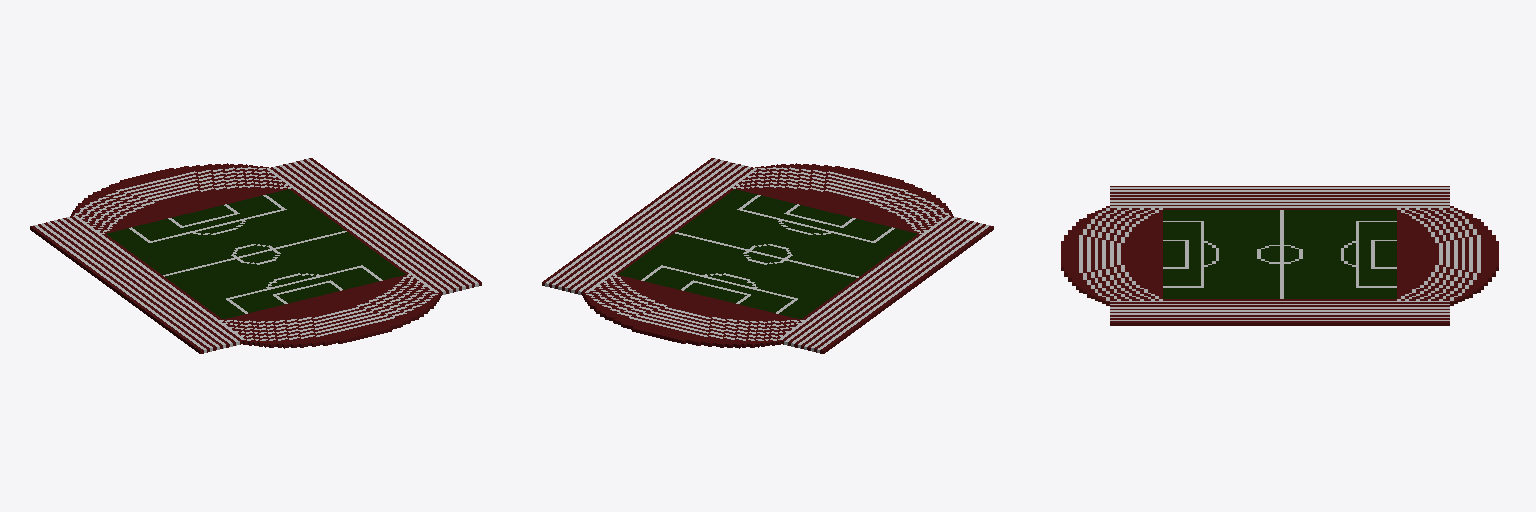
The picture shows the model from 3 angles: view 1: azimuth 30°, elevation 25°; view 2: azimuth 150°, elevation 25°; view 3: azimuth 270°, elevation 25°; orthographic projection.
Visible parts, largest first — view 1: 足球场; view 2: 足球场; view 3: 足球场.
Part boxes in pixels (x1,y1,x2,y2): 足球场: (30, 158, 481, 353); 足球场: (542, 158, 993, 353); 足球场: (1061, 186, 1498, 325).
Size of the model in its own units: 86 by 1 by 116.
1 materials, 1 textured.